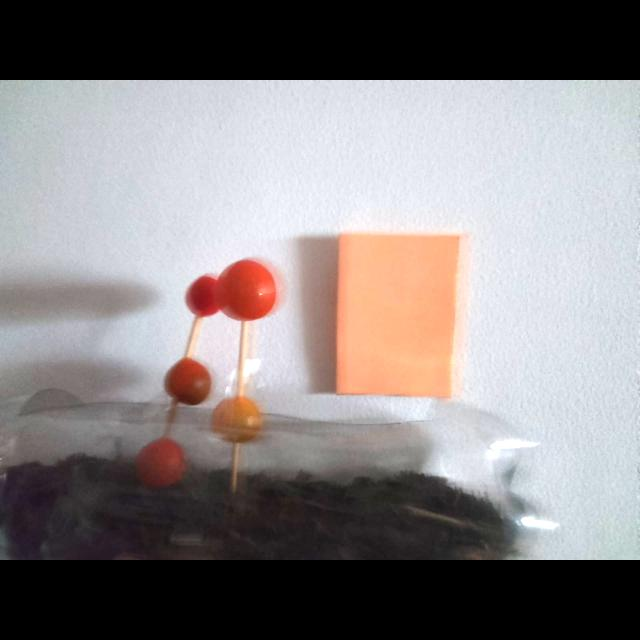card: (336, 233, 460, 398)
fruit_maturation: (212, 396, 262, 443)
fully_grown: (185, 259, 277, 321), (136, 437, 185, 487), (165, 357, 211, 405)
